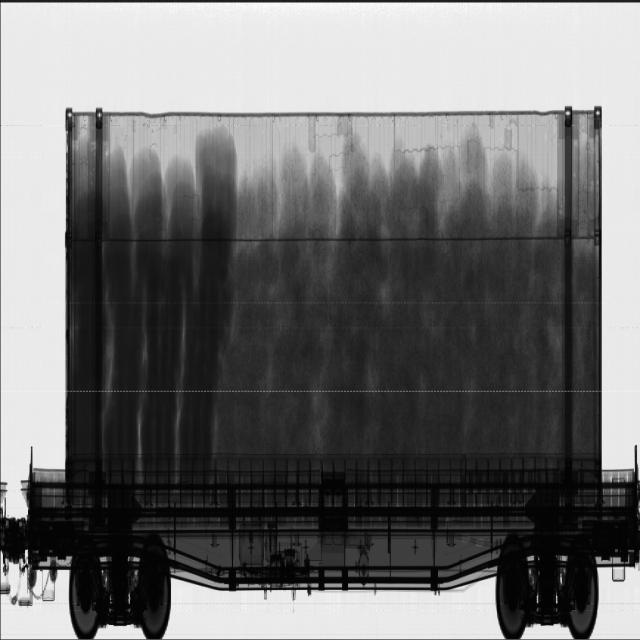clothes: (67, 129, 240, 456)
textiles: (219, 129, 598, 448)
